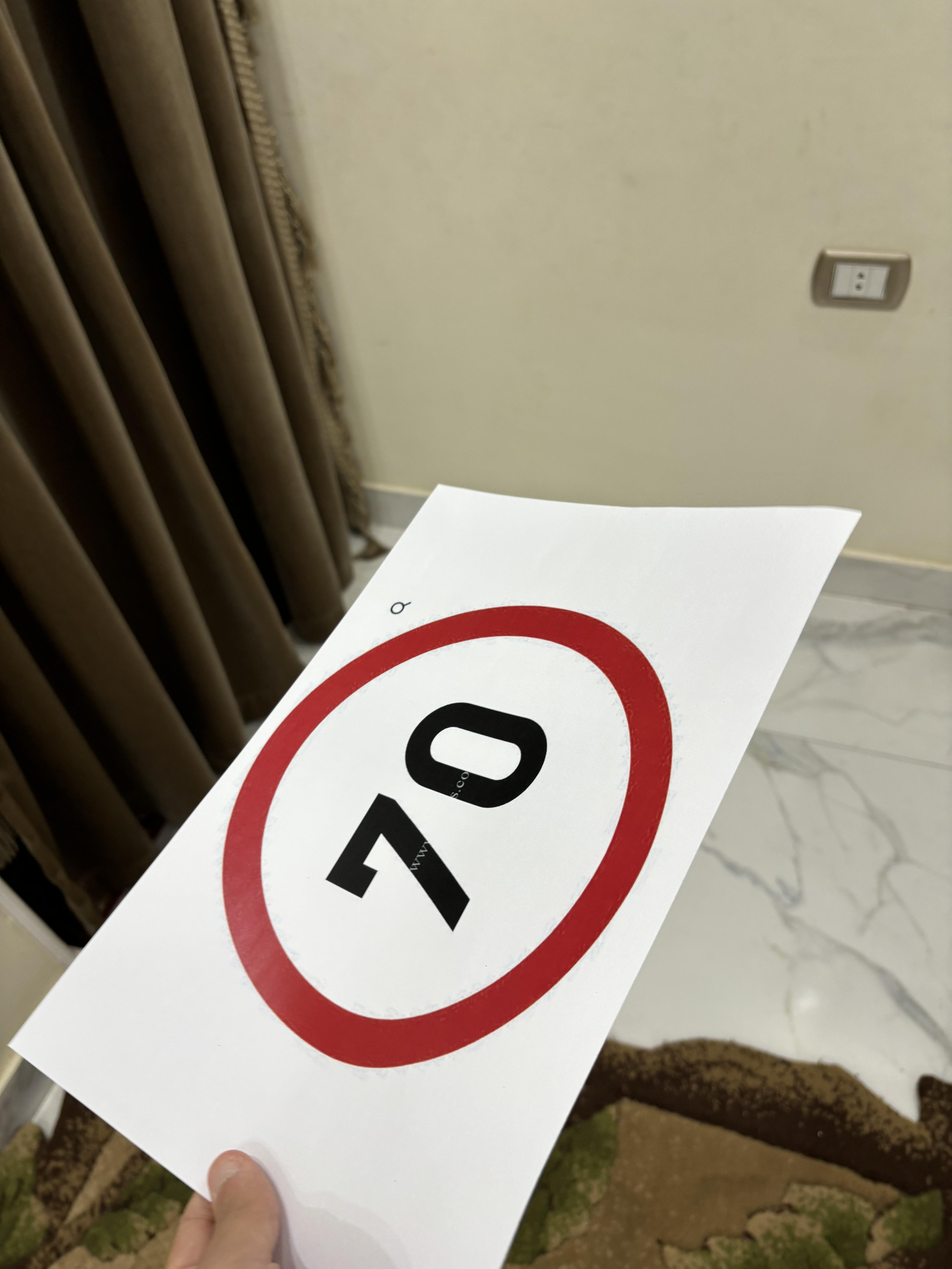70-Speed: (216, 594, 678, 1071)
